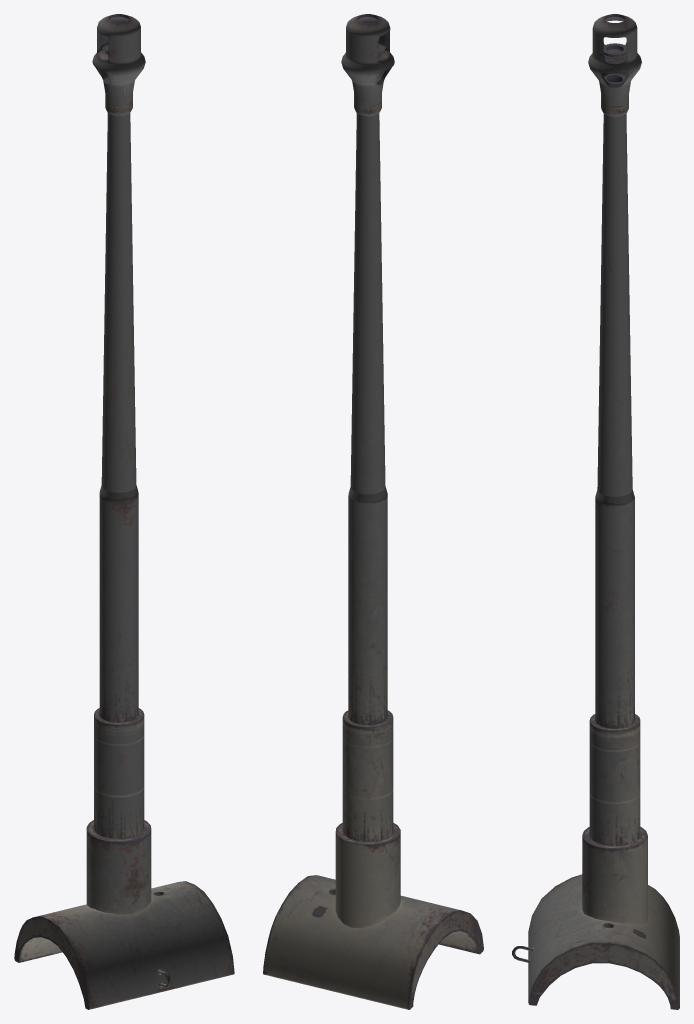
File: Gun_02.glb
The picture shows the model from 3 angles, left to right: view 1: azimuth 30°, elevation 25°; view 2: azimuth 150°, elevation 25°; view 3: azimuth 270°, elevation 25°; orthographic projection.
Parts seen in each view (by area): view 1: set_0_group_0; view 2: set_0_group_0; view 3: set_0_group_0.
Part boxes in pixels (x1,y1,x2,y2): set_0_group_0: (14, 14, 234, 1009); set_0_group_0: (263, 14, 483, 1009); set_0_group_0: (512, 14, 679, 1009).
Bounding box in the file's own units: 0.9279 × 5.79 × 0.9208.
1 material, 1 textured.
